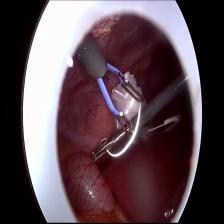Bipolar: (77, 33, 144, 140)
Grasper: (89, 133, 116, 165)
Specimen Bag: (111, 71, 147, 121)
